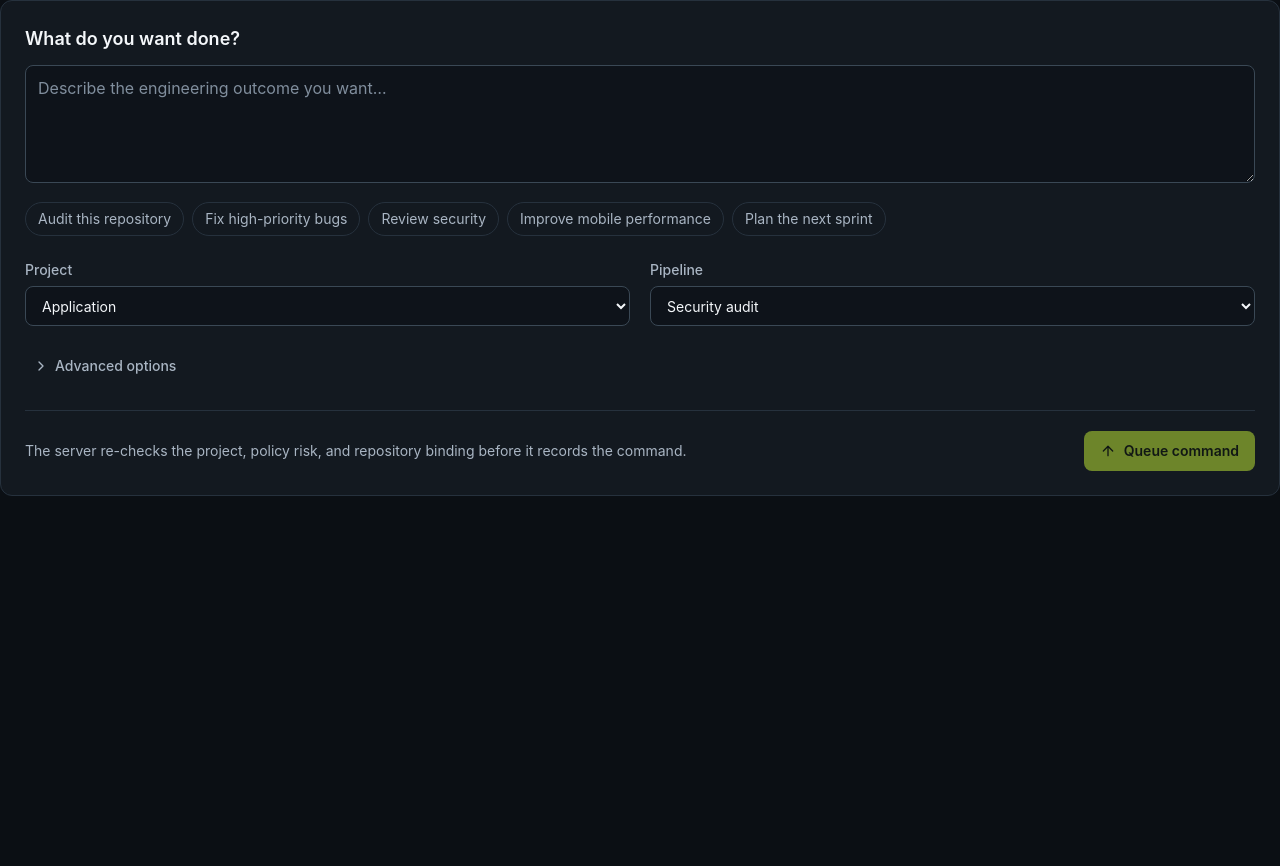
Test: CommandComposer › opens simple: advanced fields stay behind the disclosure until asked for
This screenshot has width=1280, height=866.
Expected: the dropdown labelled "Pipeline" shows "Security audit", [650,286,1255,326]
Expected: the field labelled "Work type" is not shown
Step 1. Click the button "Advanced options" → coordinates (105, 366), box [25,346,184,386]
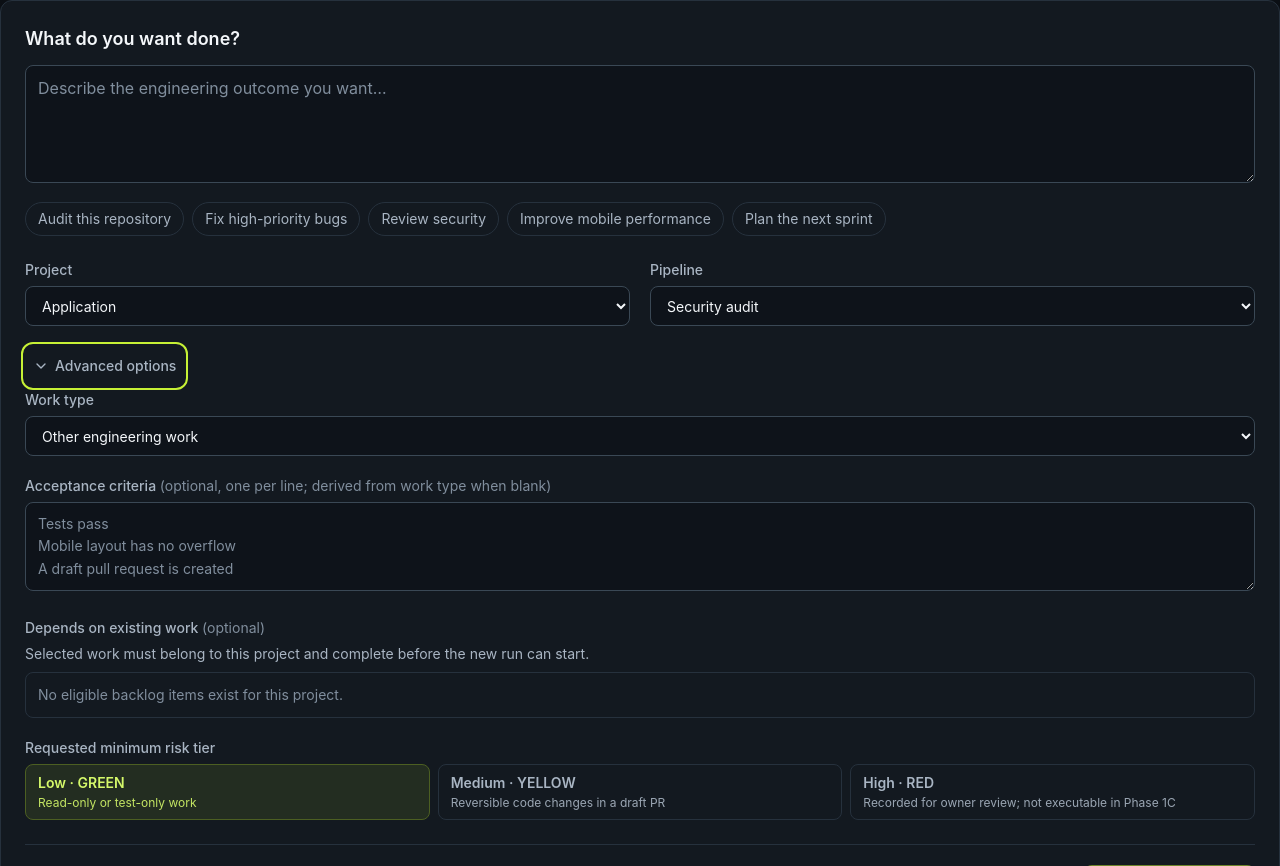
Result: the button "Advanced options" is expanded at [25,346,184,386]
Result: the dropdown labelled "Work type" is shown at [25,416,1255,456]
Result: the text "Requested minimum risk tier" is shown at [25,738,215,758]
